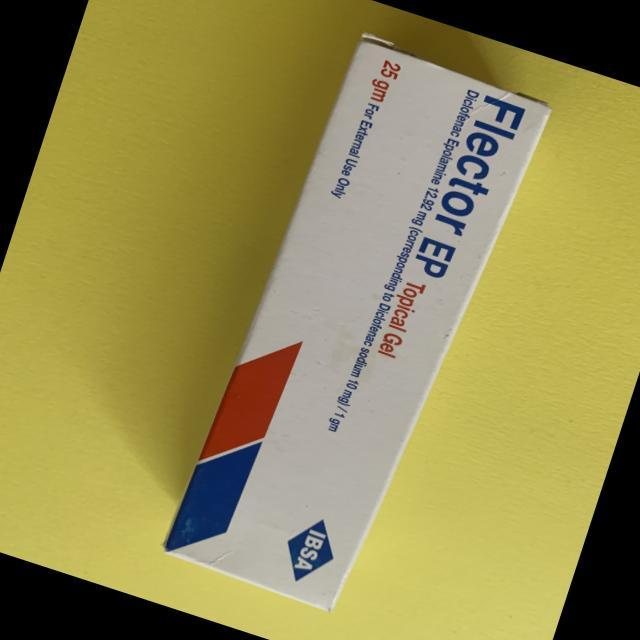Medicine Name: (408, 88, 537, 297)
